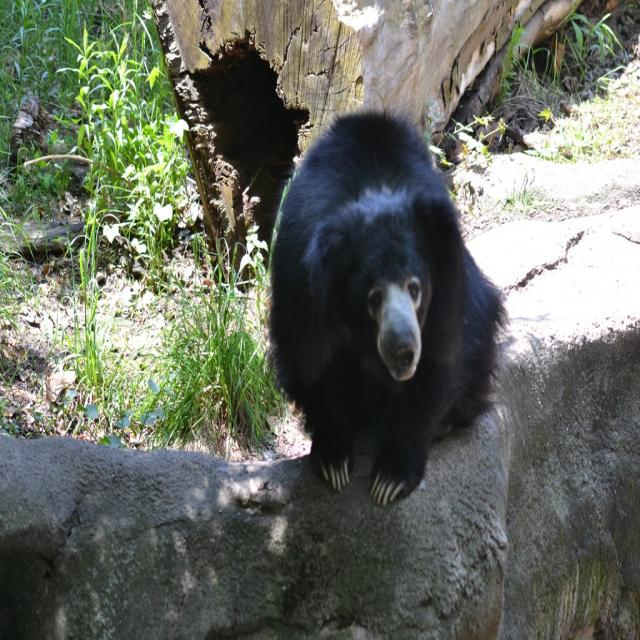Bear: (266, 103, 511, 507)
